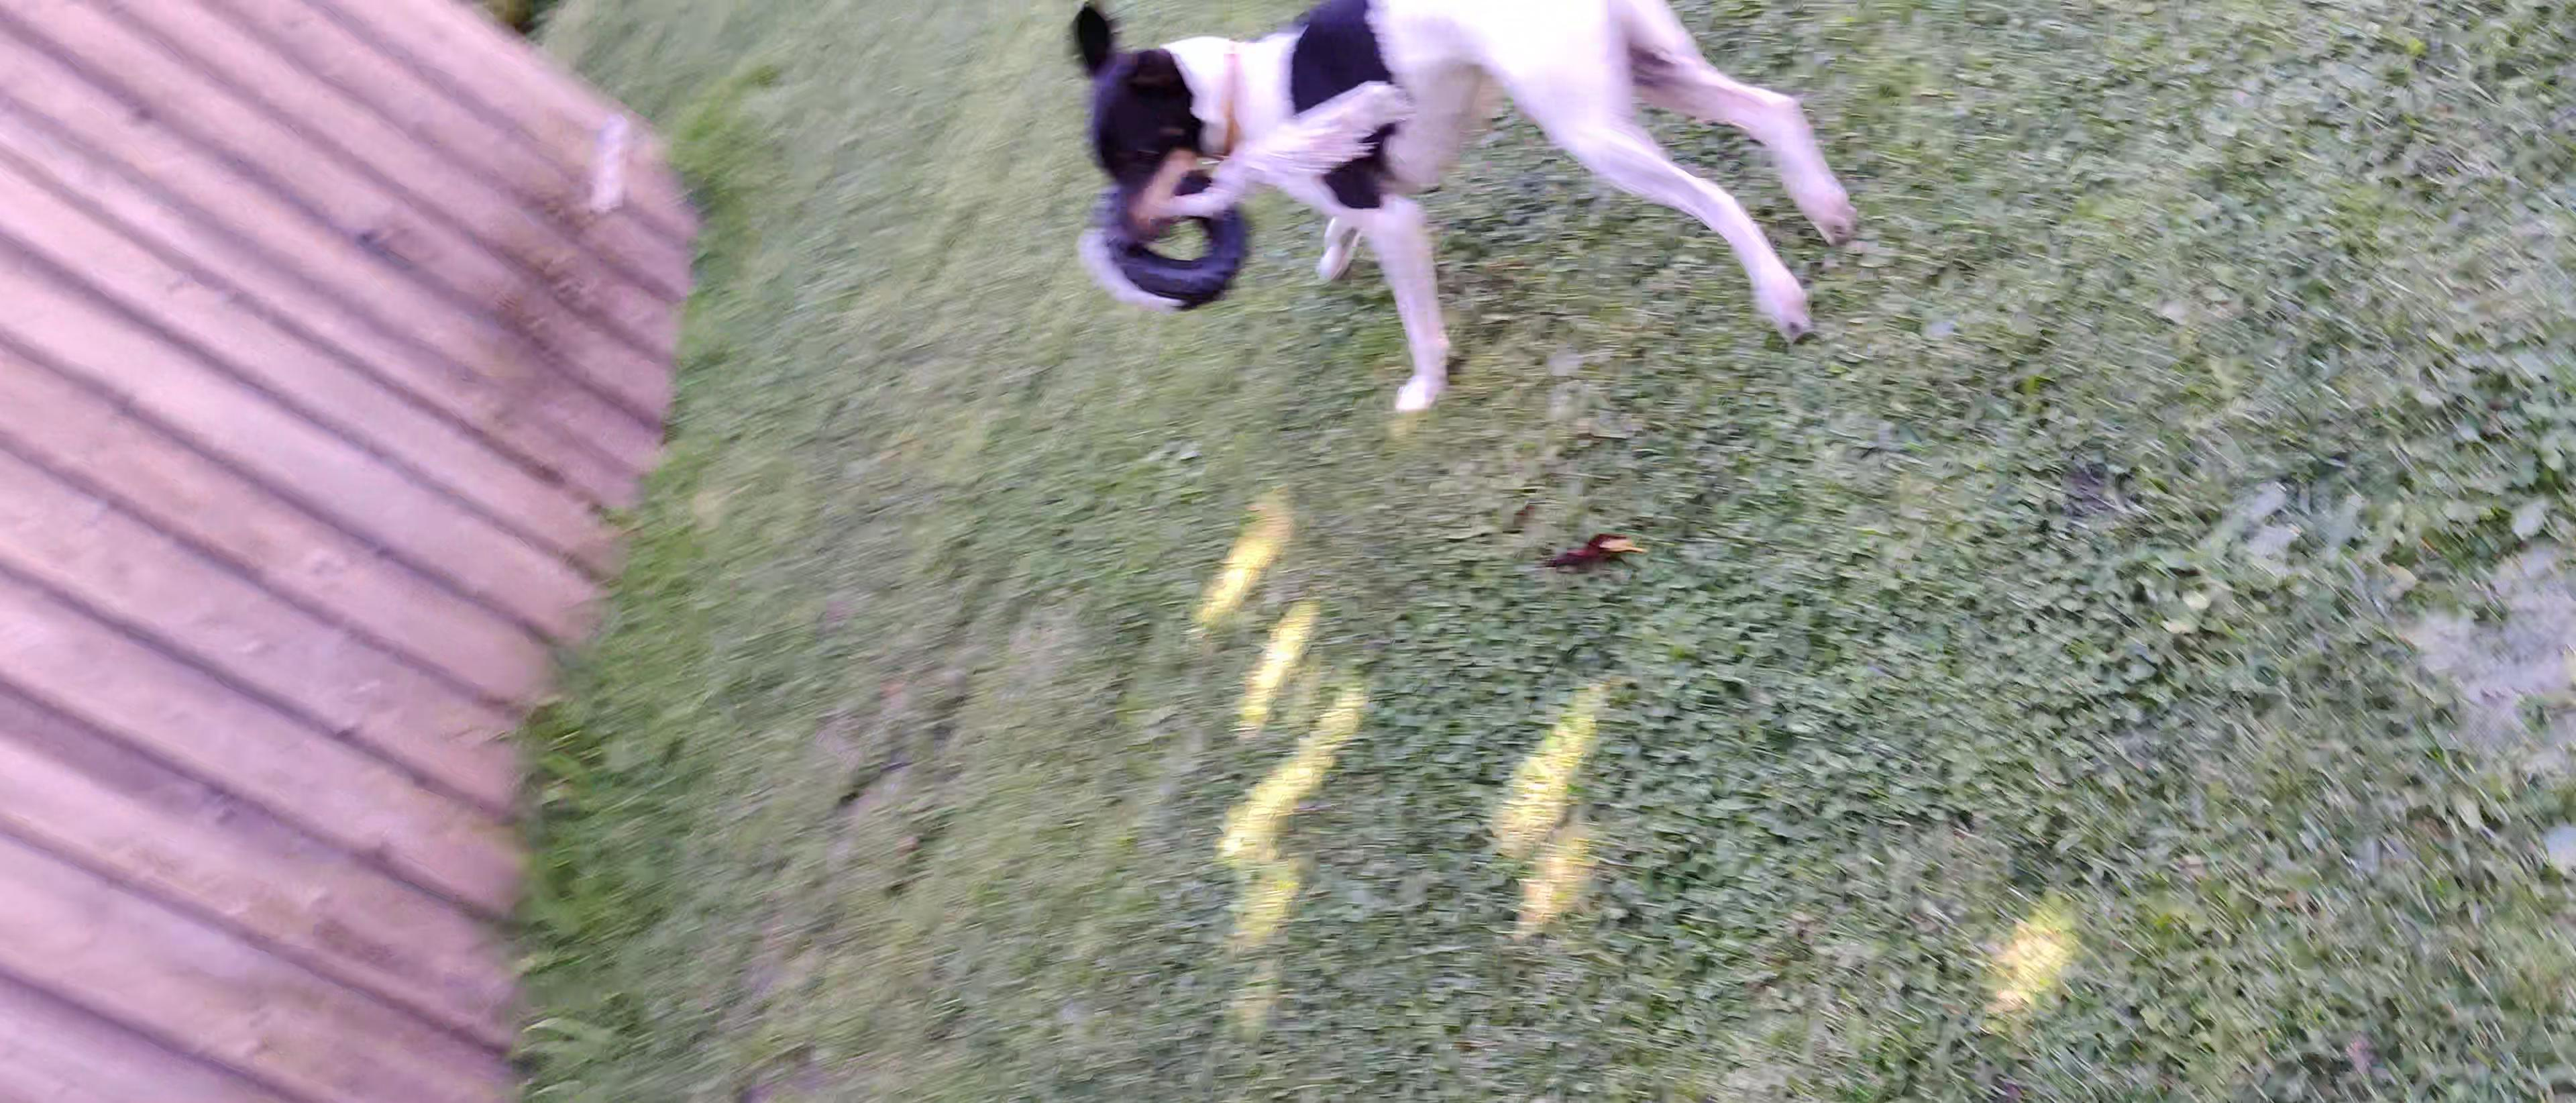Dog: (1053, 0, 1871, 421)
